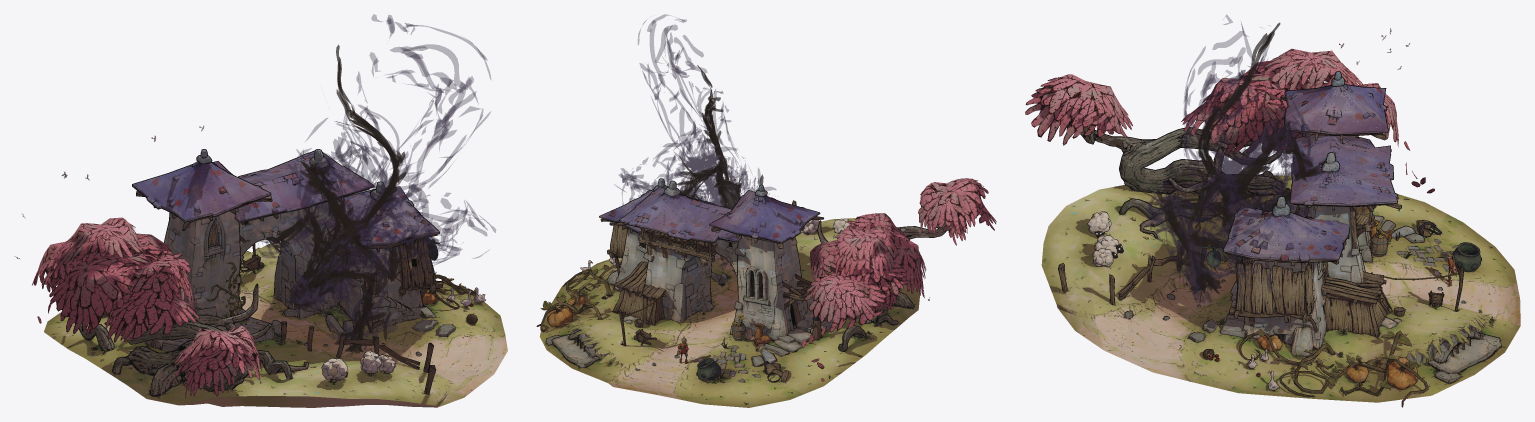
3 renders of one model, left to right at view 1: azimuth 30°, elevation 25°; view 2: azimuth 150°, elevation 25°; view 3: azimuth 270°, elevation 25°, orthographic. The views are drawn at different scales.
Visible parts, largest first — view 1: ground, monster 001, roof, tree leaves, piedras, monster, outline, madera, dec, tree leaves inv; view 2: ground, piedras, tree leaves, roof, monster 001, madera, outline, dec, monster; view 3: ground, roof, monster 001, tree leaves, madera, piedras, outline, monster, dec.
Boxes of the visible parts, x1=… form: ground: x1=44, y1=243, x2=507, y2=407; monster 001: x1=258, y1=14, x2=495, y2=350; roof: x1=75, y1=149, x2=439, y2=396; tree leaves: x1=35, y1=217, x2=261, y2=398; piedras: x1=145, y1=197, x2=455, y2=355; monster: x1=262, y1=44, x2=417, y2=353; outline: x1=74, y1=149, x2=485, y2=394; madera: x1=102, y1=189, x2=442, y2=394; dec: x1=14, y1=125, x2=485, y2=382; tree leaves inv: x1=32, y1=224, x2=261, y2=378; ground: x1=539, y1=218, x2=919, y2=407; piedras: x1=546, y1=228, x2=832, y2=382; tree leaves: x1=801, y1=178, x2=996, y2=381; roof: x1=599, y1=179, x2=945, y2=351; monster 001: x1=614, y1=14, x2=775, y2=274; madera: x1=601, y1=200, x2=827, y2=382; outline: x1=536, y1=178, x2=946, y2=382; dec: x1=537, y1=178, x2=929, y2=382; monster: x1=676, y1=65, x2=769, y2=274; ground: x1=1041, y1=175, x2=1520, y2=402; roof: x1=1081, y1=72, x2=1397, y2=261; monster 001: x1=1146, y1=14, x2=1328, y2=305; tree leaves: x1=1025, y1=48, x2=1416, y2=177; madera: x1=1058, y1=97, x2=1463, y2=337; piedras: x1=1125, y1=133, x2=1501, y2=383; outline: x1=1058, y1=71, x2=1500, y2=407; monster: x1=1156, y1=22, x2=1319, y2=303; dec: x1=1082, y1=28, x2=1496, y2=406.
Size of what is drawn, in the model's own units: 19.2 by 14.82 by 18.11.
Materials: 10 (6 with a texture image).
